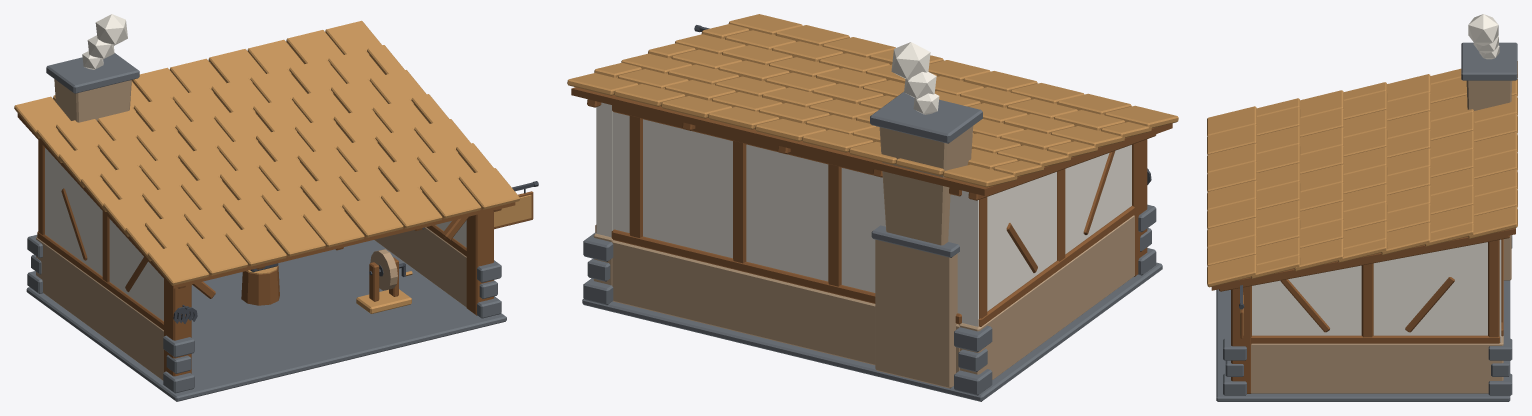
File: blacksmith-workshop.glb
The picture shows the model from 3 angles, left to right: view 1: azimuth 30°, elevation 25°; view 2: azimuth 150°, elevation 25°; view 3: azimuth 270°, elevation 25°; orthographic projection. The views are drawn at different scales.
Parts seen in each view (by area): view 1: Workshop_Roof, Workshop_Building, Forge, Smoke, Anvil_Stump, Grinder_Stand, Sign_Board, Grinding_Wheel; view 2: Workshop_Building, Workshop_Roof, Forge, Smoke; view 3: Workshop_Roof, Workshop_Building, Forge, Smoke.
Part boxes in pixels (bbox=[...]): Workshop_Roof: bbox=[14, 20, 519, 288]; Workshop_Building: bbox=[26, 140, 506, 401]; Forge: bbox=[46, 53, 191, 284]; Smoke: bbox=[82, 14, 127, 69]; Anvil_Stump: bbox=[241, 263, 279, 305]; Grinder_Stand: bbox=[356, 257, 411, 313]; Sign_Board: bbox=[494, 189, 533, 229]; Grinding_Wheel: bbox=[369, 249, 412, 290]; Workshop_Building: bbox=[582, 102, 1162, 401]; Workshop_Roof: bbox=[567, 14, 1178, 200]; Forge: bbox=[870, 92, 982, 388]; Smoke: bbox=[891, 42, 939, 114]; Workshop_Roof: bbox=[1207, 61, 1517, 291]; Workshop_Building: bbox=[1216, 235, 1512, 401]; Forge: bbox=[1461, 42, 1517, 280]; Smoke: bbox=[1468, 14, 1499, 59].
Bounding box in the file's own units: 29.09 × 19.7 × 20.93.
